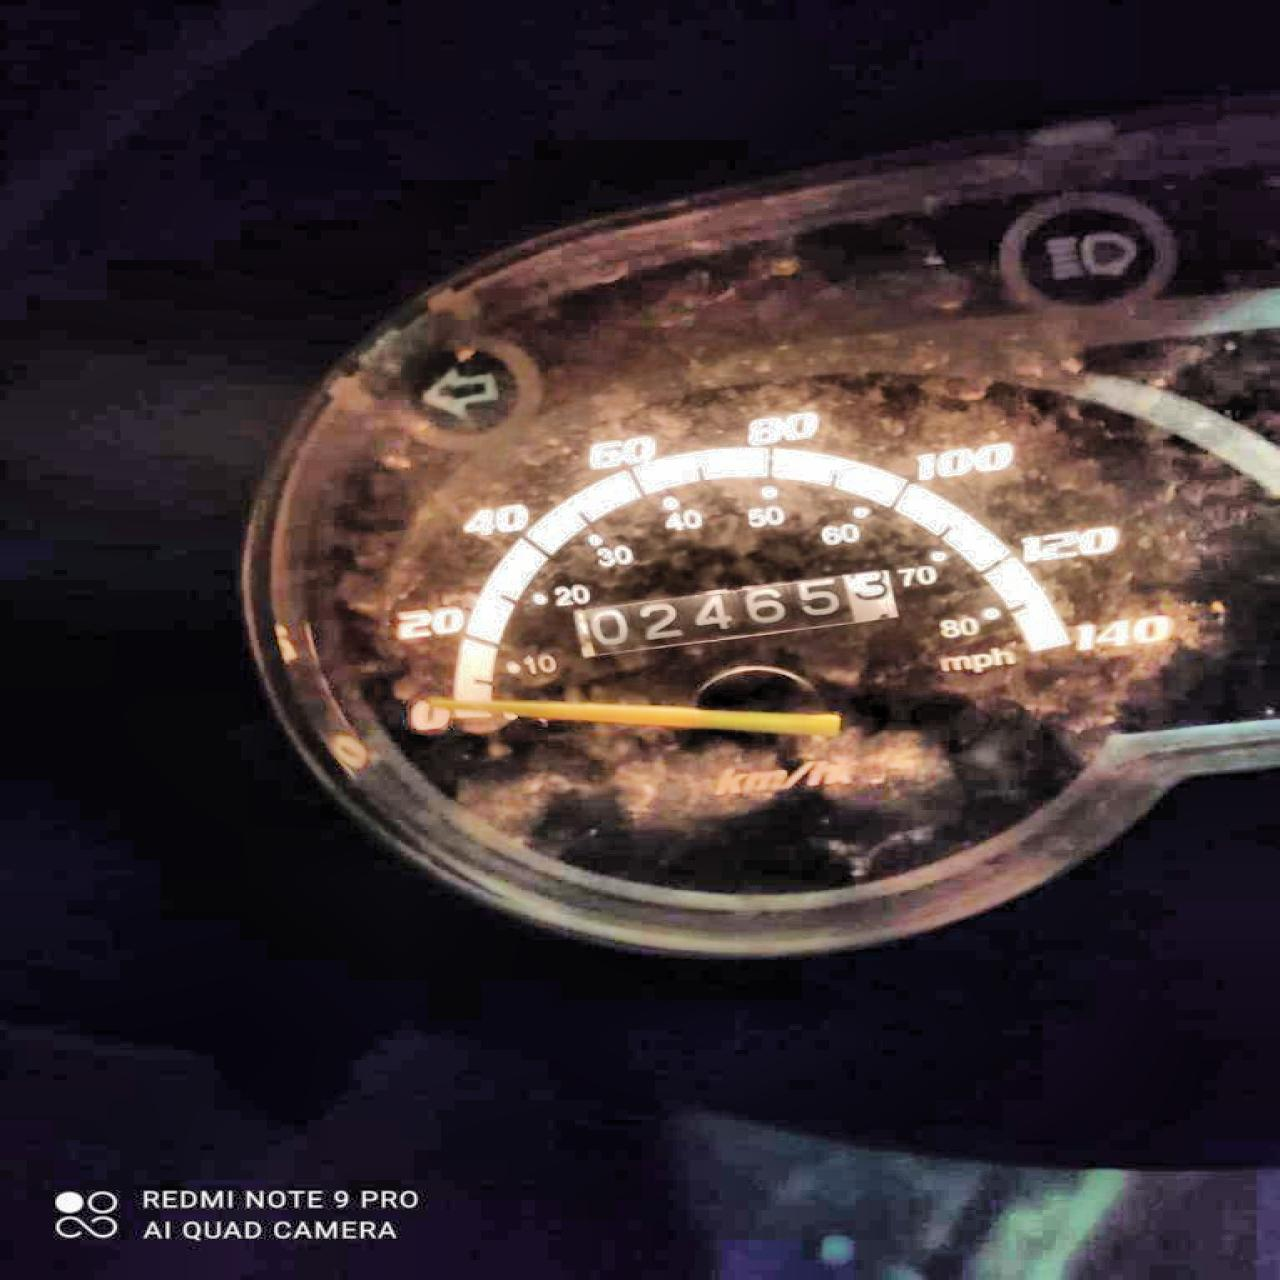0: (588, 606, 628, 648), (570, 580, 590, 605)
2: (635, 598, 683, 645), (551, 584, 570, 606)
3: (843, 567, 892, 600)
4: (692, 593, 735, 633)
5: (794, 576, 839, 617)
6: (742, 584, 787, 625)
7: (894, 566, 915, 587)
odometer: (553, 566, 919, 665)
